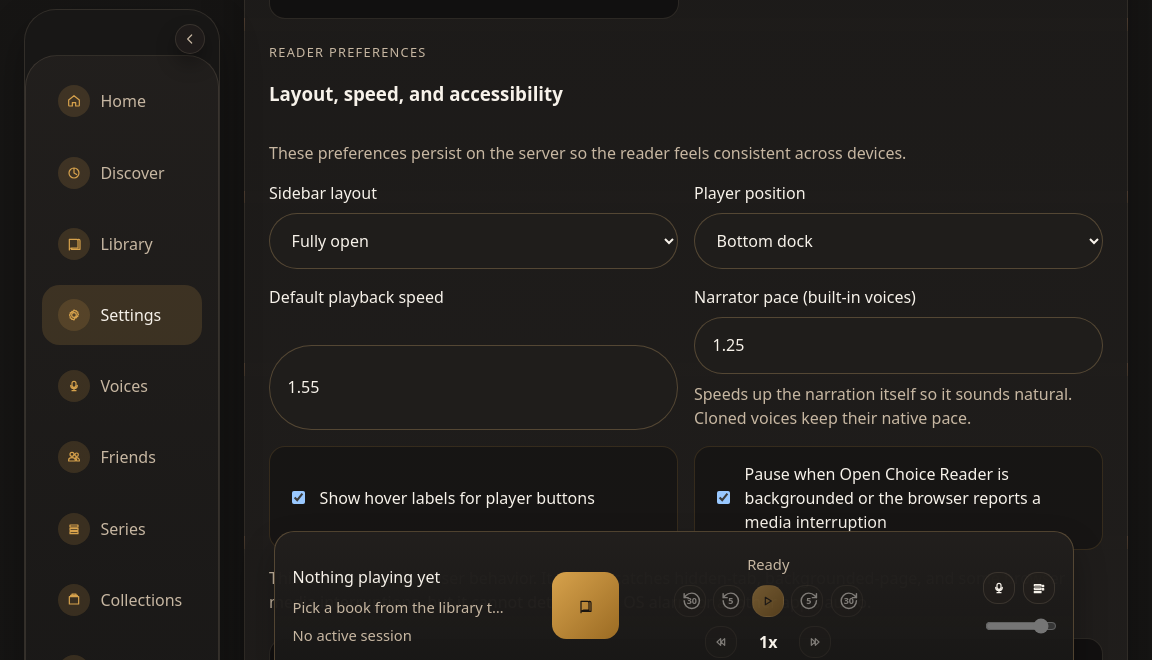
Scenario: SettingsPage › saves the narrator pace alongside the other reader preferences
(page scrolled)
Step 1. Replace the text in the number field labelled "Narrator pace" with "1.5" → (898,345), box [694, 317, 1103, 374]
(page scrolled)
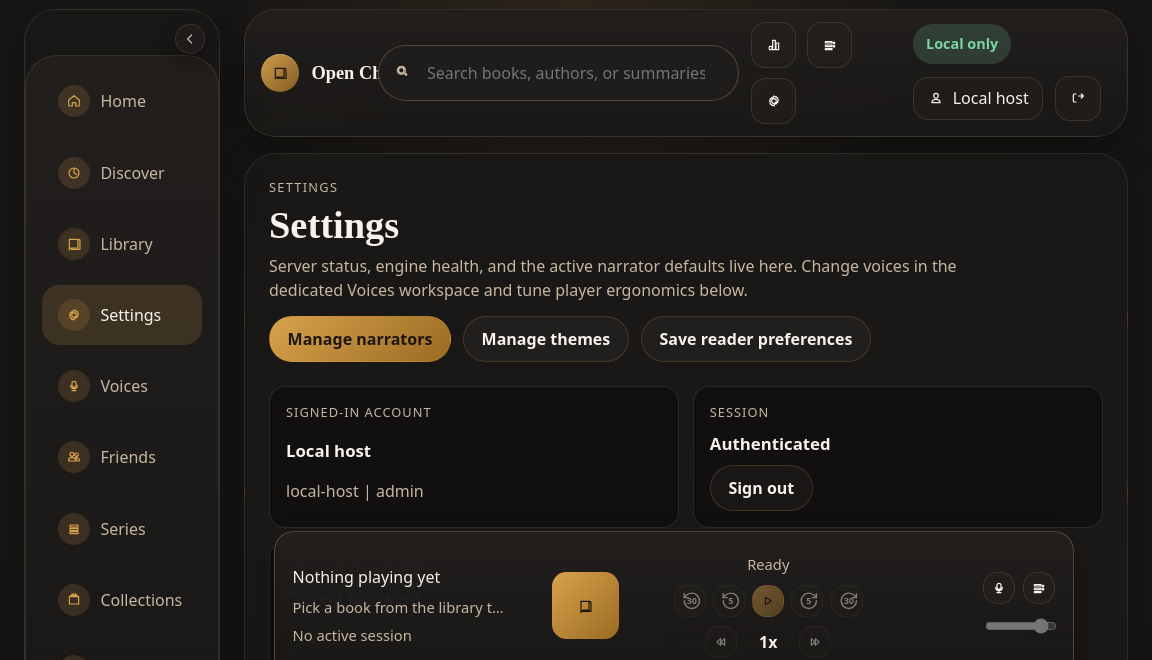
Step 2. Click the button "Save reader preferences" → (756,339), box [641, 316, 871, 362]
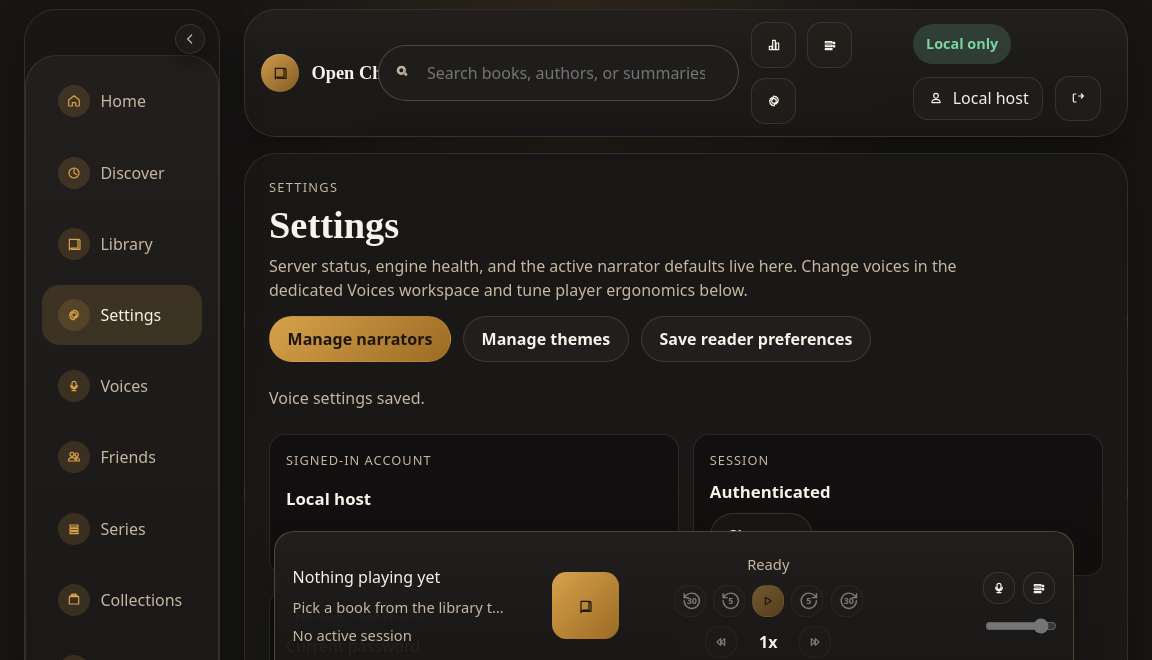
Expected: the text "Voice settings saved." is shown, [269, 387, 425, 409]
